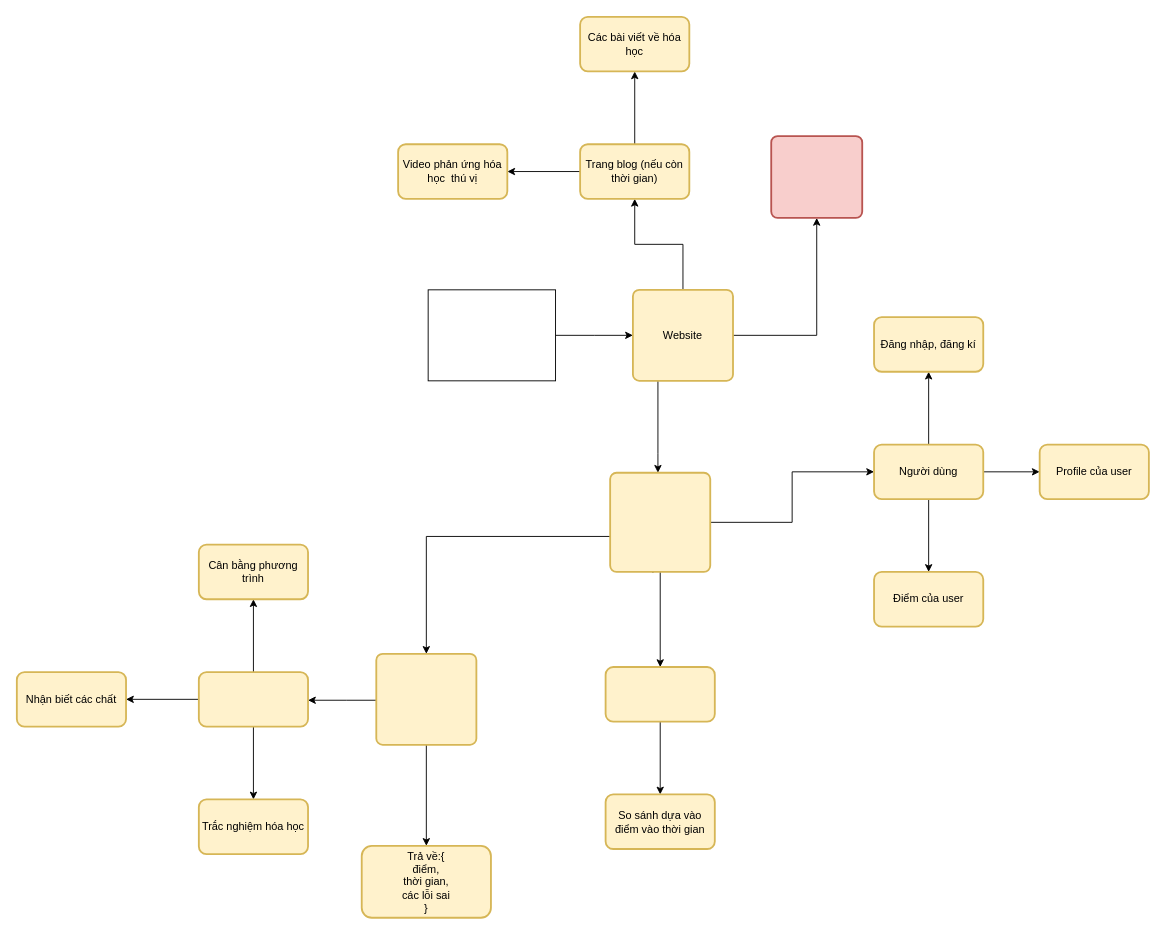
Image size: 1165x934. Some labels were removed from this diagram. The centre of each missing label's shape, as x and y in pixels:
Bảng xếp hạng: point 659,694
Các game học tập (ý tưởng): point 252,699
Game (phần đặc biệt, thể hiện đẳng cấp với các website học hóa rẻ rách khác): point 426,698
Trang giới thiệu: point 816,176
Trang học tập (phần này quan trọng hơn): point 660,521
Đồ Án Vip: point 491,335
